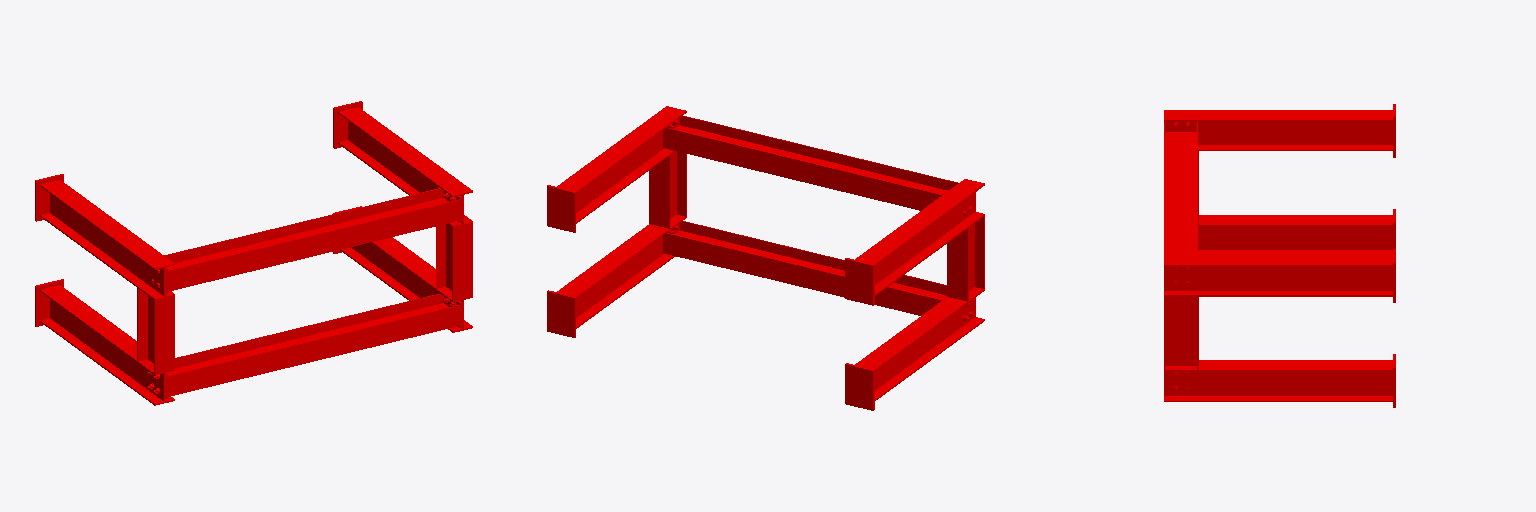
File: mesa.obj
3 renders of one model, left to right at view 1: azimuth 30°, elevation 25°; view 2: azimuth 150°, elevation 25°; view 3: azimuth 270°, elevation 25°, orthographic.
Parts seen in each view (by area): view 1: W150X18.00, W150X13.0, PLATE_193x142x13; view 2: W150X18.00, W150X13.0, PLATE_193x142x13; view 3: W150X18.00, W150X13.0, PLATE_193x142x13.
Part boxes in pixels (left/top/right/bottom): W150X18.00: left=40, top=107, right=472, bottom=405; W150X13.0: left=164, top=188, right=459, bottom=396; PLATE_193x142x13: left=35, top=101, right=362, bottom=326; W150X18.00: left=557, top=106, right=984, bottom=400; W150X13.0: left=663, top=116, right=958, bottom=315; PLATE_193x142x13: left=547, top=185, right=874, bottom=410; W150X18.00: left=1164, top=110, right=1392, bottom=401; W150X13.0: left=1164, top=122, right=1197, bottom=254; PLATE_193x142x13: left=1393, top=104, right=1395, bottom=407.
Bounding box in the file's own units: 1.64 × 0.699 × 1.01.